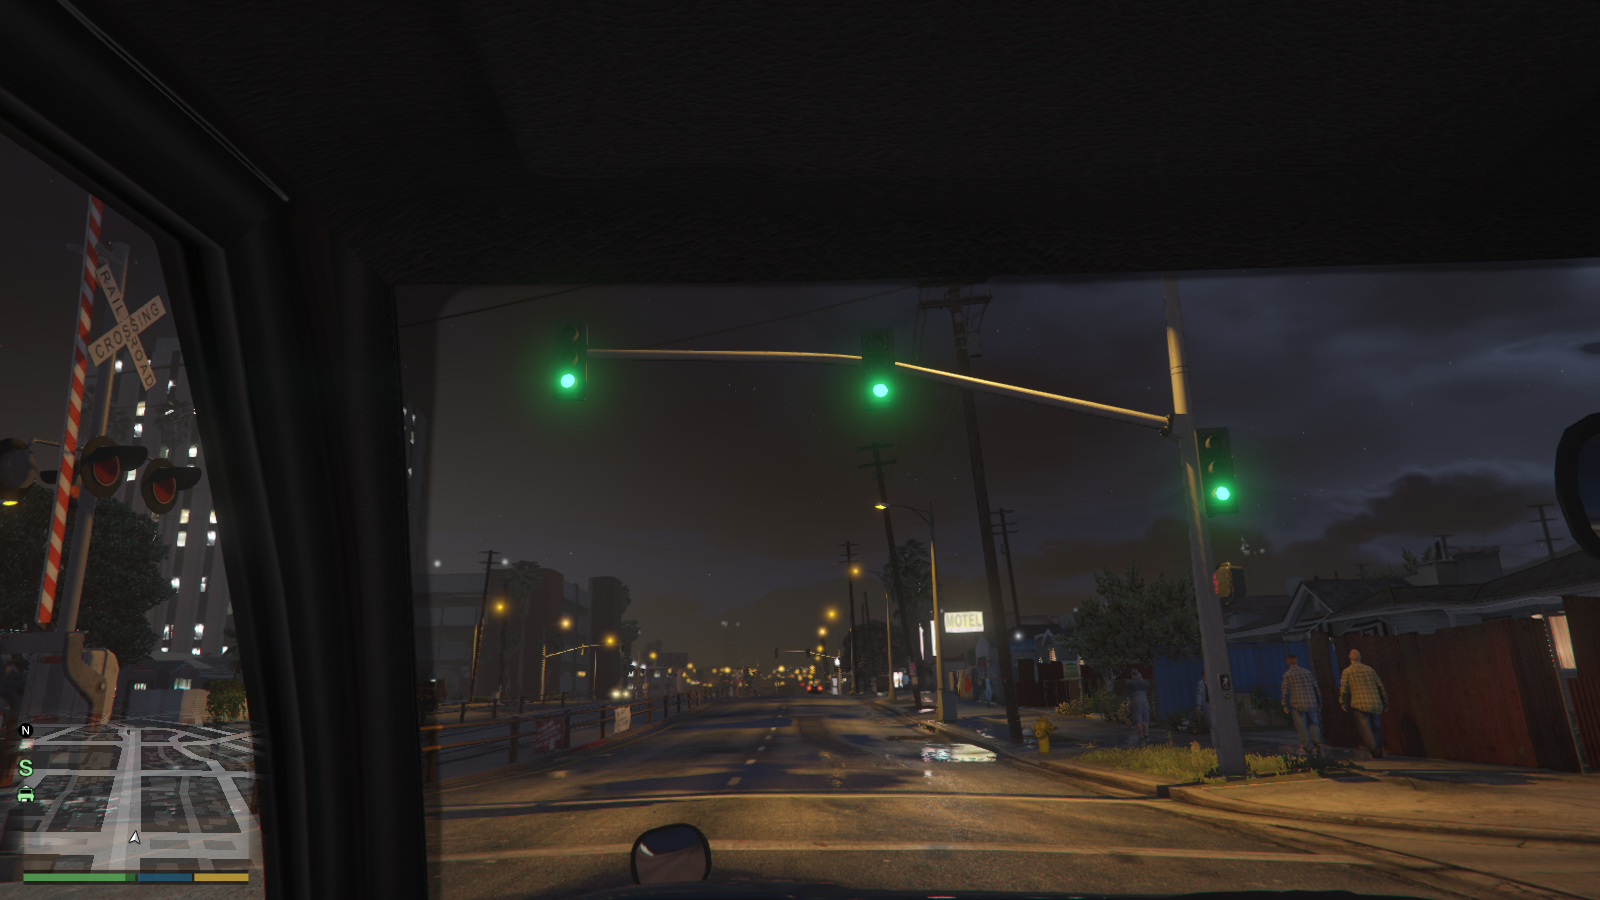green: (1195, 427, 1238, 518), (859, 327, 896, 411), (553, 322, 590, 401)
